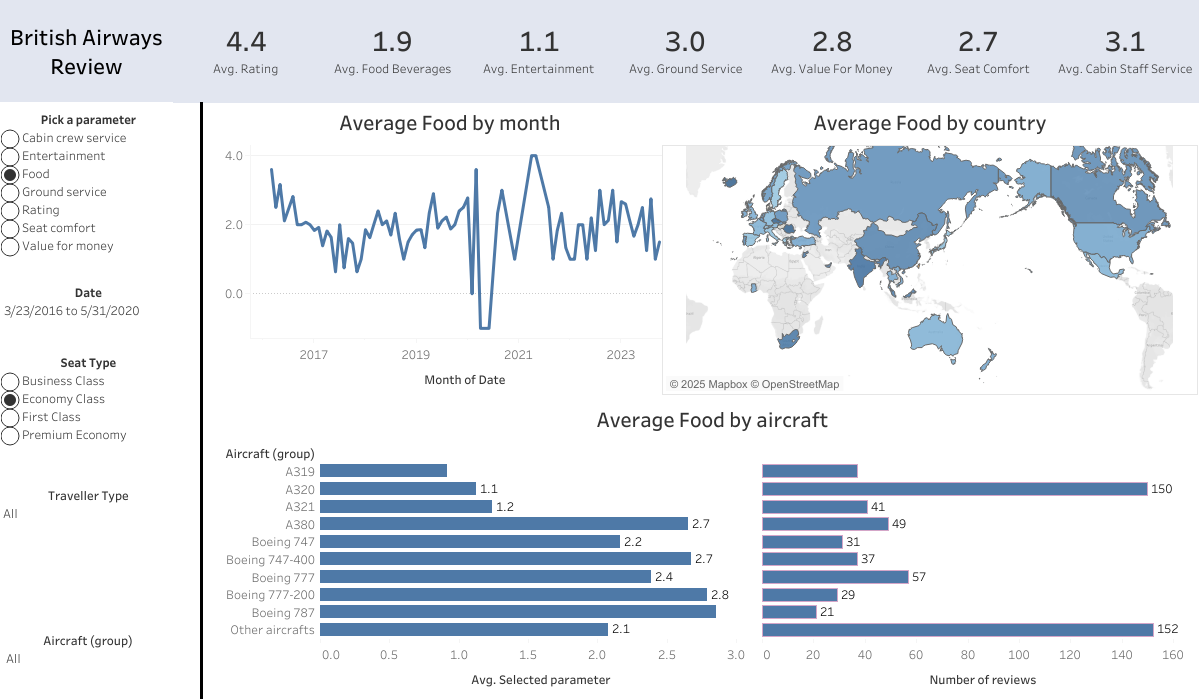

The page's visual inventory and layout, read from the dashboard file:
{"tool":"tableau","page":{"name":"Dashboard 1","canvas":[1200,700],"ordinal":0},"visuals":[{"type":"text","box":[0,0,173,102]},{"type":"worksheet","title":"Summary","mark":"Automatic","box":[173,0,1026,102]},{"type":"blank","box":[200,102,3,600]},{"type":"worksheet","title":"Month","mark":"Automatic","rows":["Calculation_1055543883210988"],"cols":["date"],"box":[220,102,460,293]},{"type":"worksheet","title":"Map","mark":"Automatic","box":[662,102,536,293]},{"type":"worksheet","title":"Aircraft","mark":"Automatic","cols":["Calculation_1055543883210988","ba_reviews.csv_DE918895A8804972ADCA7FD1FF63BC60"],"box":[220,399,985,296]},{"type":"filter","title":"Map","param":"[federated.1r05wvw1kav1zw17atdb11b442gu].[Aircraft (group)]","box":[4,630,168,56]}]}

Visuals, with their boxes in screenshot pixels (x1, y1, x2, y2), scaled from the page's 1200x700 canvas onto the 1199x699 screenshot:
text: bbox=(0, 0, 173, 102)
"Summary" worksheet: bbox=(173, 0, 1198, 102)
blank: bbox=(200, 102, 203, 698)
"Month" worksheet: bbox=(220, 102, 679, 394)
"Map" worksheet: bbox=(661, 102, 1197, 394)
"Aircraft" worksheet: bbox=(220, 398, 1198, 694)
"Map" filter: bbox=(4, 629, 172, 685)
